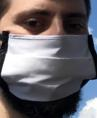with_mask: (1, 2, 97, 118)
